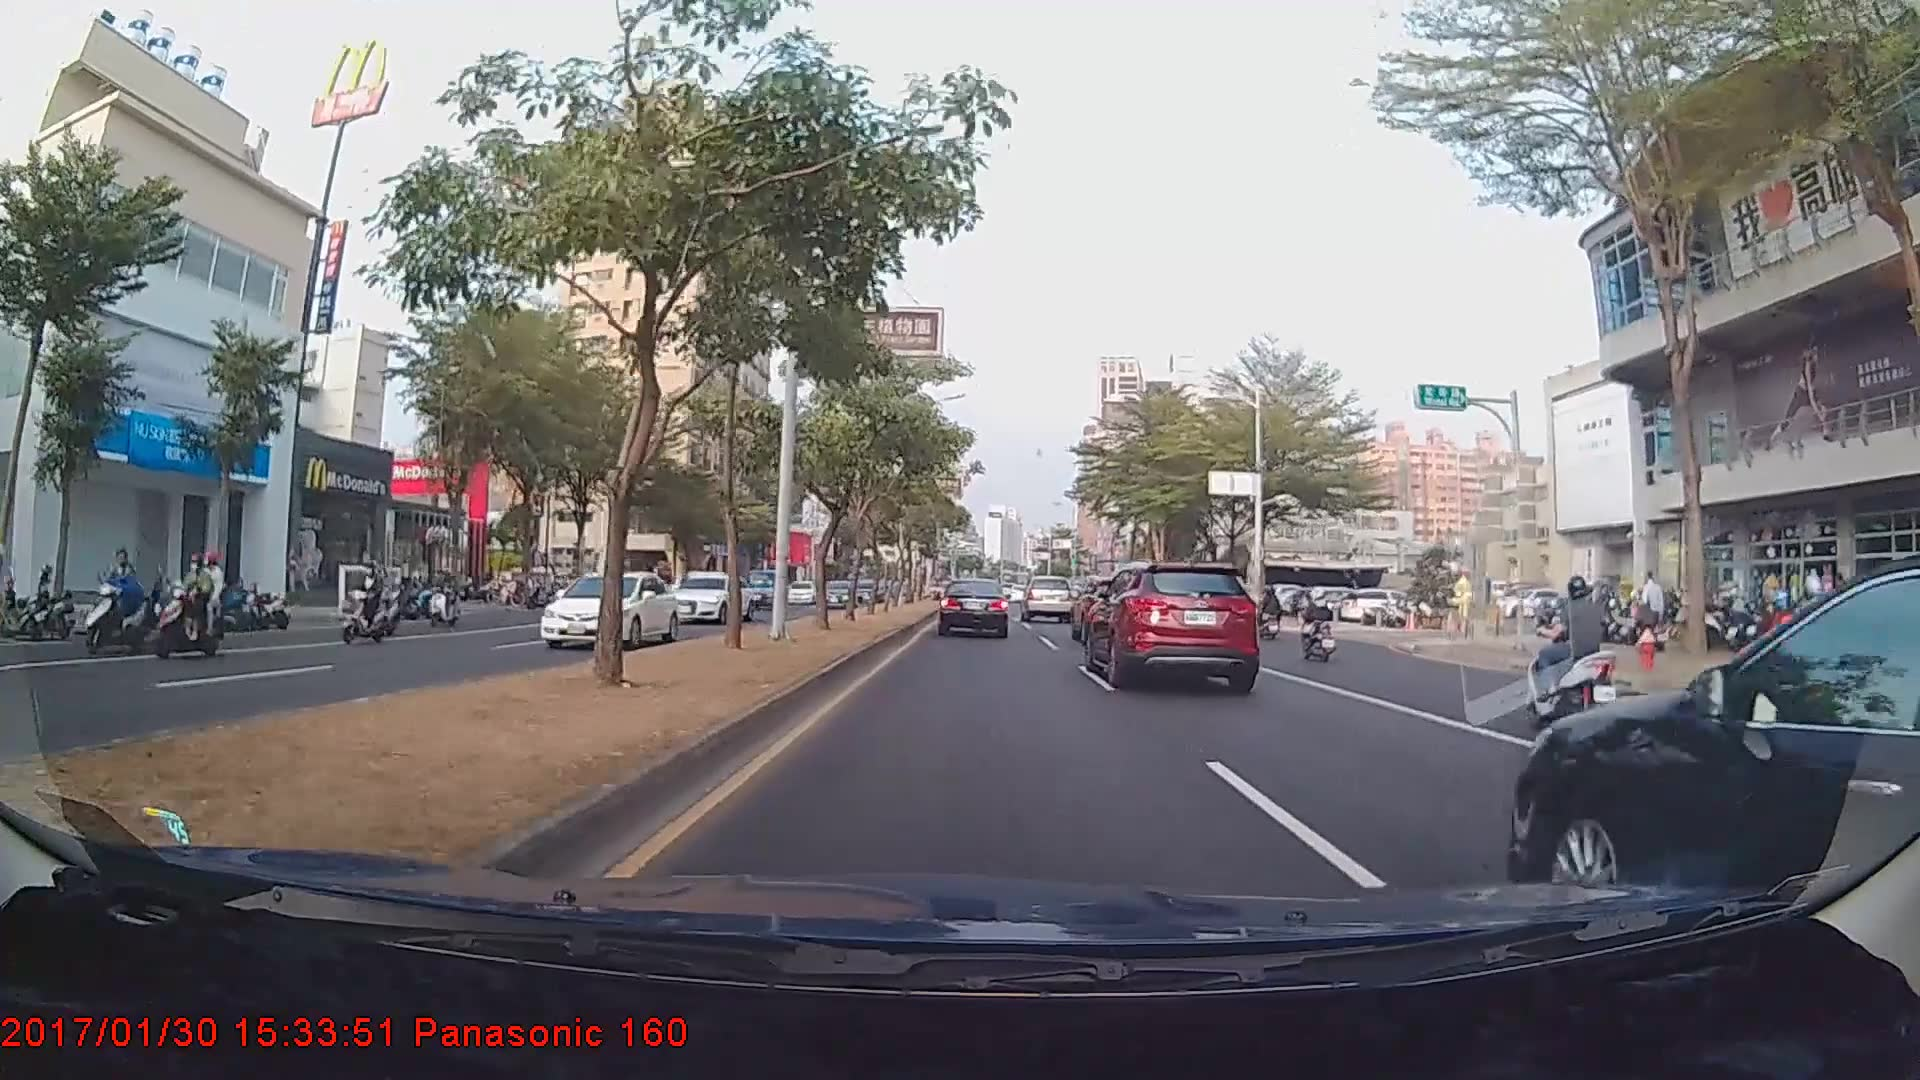pedestrian: (1638, 570, 1668, 658)
rider: (1518, 572, 1637, 737), (1724, 570, 1848, 726), (76, 544, 162, 656), (153, 550, 229, 660), (332, 559, 396, 651), (1299, 586, 1344, 668), (424, 566, 473, 636)
vehicle: (1521, 548, 1920, 927), (1083, 559, 1259, 689), (537, 569, 679, 649), (661, 572, 753, 622), (937, 578, 1009, 639), (1019, 573, 1078, 623)
